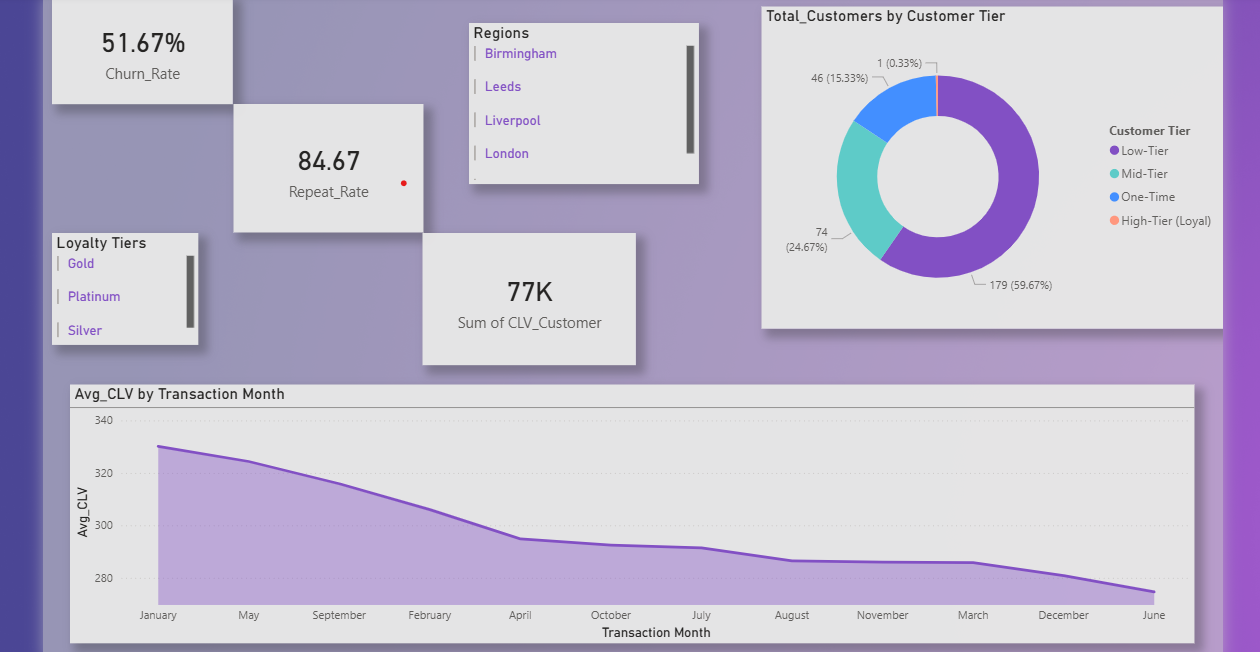

The dashboard page shown, as its layout file describes it:
{"tool":"powerbi","page":{"name":"Page 4 Customer Segmentation (Churned, Repeat, High-Value)","canvas":[1280,720],"ordinal":10},"visuals":[{"type":"card","fields":{"Values":["Churn_Labelled_Customers.Churn_Rate"]},"box":[9.8,0,196.1,117.6],"z":0},{"type":"card","fields":{"Values":["Churn_Labelled_Customers.Repeat_Rate"]},"box":[205.9,117.6,205.9,139.2],"z":1000},{"type":"card","fields":{"Values":["Sum(Customer_Demographics.CLV_Customer)"]},"box":[411.8,256.9,231.4,143.1],"z":2000},{"type":"areaChart","fields":{"Category":["Customer_Transactions.Transaction Month"],"Y":["Customer_Demographics.Avg_CLV"]},"box":[29.4,421.6,1219.6,280.4],"z":3000},{"type":"donutChart","fields":{"Y":["Churn_Labelled_Customers.Total_Customers"],"Category":["Customer_Demographics.Customer Tier"]},"box":[778.4,11.8,502,349],"z":4000},{"type":"multiRowCard","title":"Regions","fields":{"Values":["Customer_Demographics.Region"]},"box":[462.7,29.4,249,174.5],"z":5000},{"type":"multiRowCard","title":"Loyalty Tiers","fields":{"Values":["Loyalty_Program.Loyalty_Tier"]},"box":[9.8,256.9,158.8,121.6],"z":6000}]}

Visuals, with their boxes in screenshot pixels (x1, y1, x2, y2):
card - Churn_Labelled_Customers.Churn_Rate: locate(45, 0, 227, 99)
card - Churn_Labelled_Customers.Repeat_Rate: locate(227, 99, 418, 228)
card - Sum(Customer_Demographics.CLV_Customer): locate(418, 228, 632, 361)
areaChart - Customer_Transactions.Transaction Month x Customer_Demographics.Avg_CLV: locate(63, 381, 1194, 641)
donutChart - Churn_Labelled_Customers.Total_Customers x Customer_Demographics.Customer Tier: locate(758, 1, 1223, 325)
"Regions" multiRowCard: locate(465, 17, 696, 179)
"Loyalty Tiers" multiRowCard: locate(45, 228, 192, 341)
